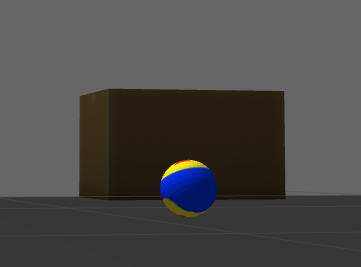toy story ball: (160, 159, 217, 218)
